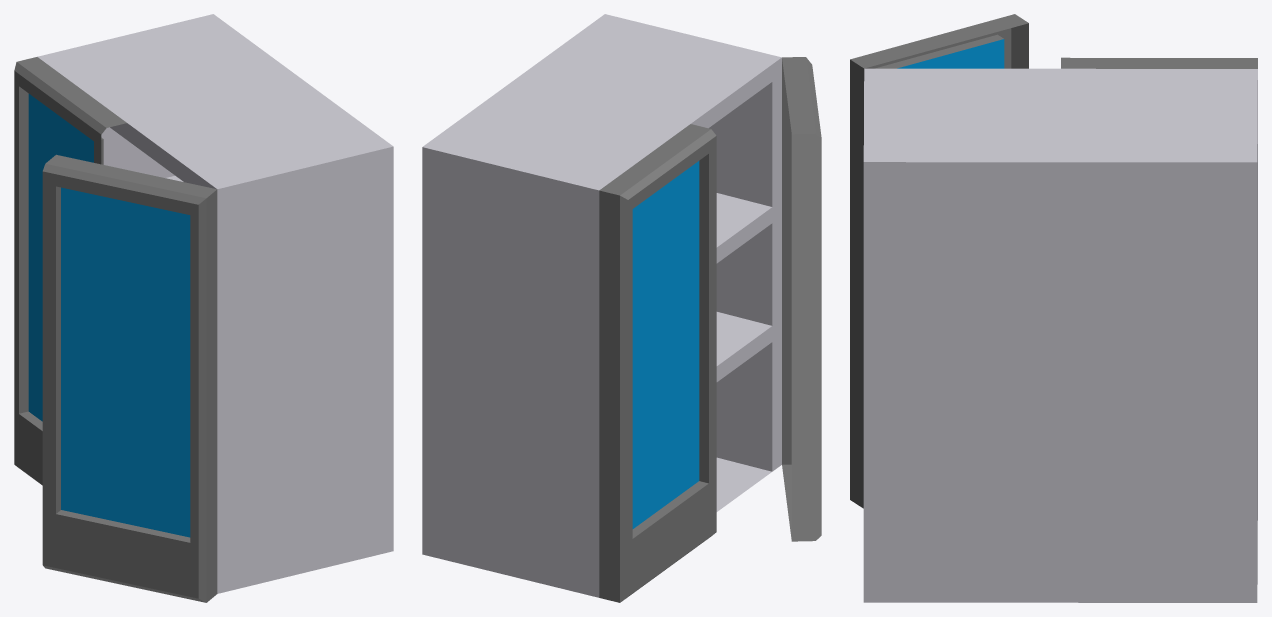
File: open_closet.fbx
The picture shows the model from 3 angles, left to right: view 1: azimuth 30°, elevation 25°; view 2: azimuth 150°, elevation 25°; view 3: azimuth 270°, elevation 25°; orthographic projection. The views are drawn at different scales.
Visible parts, largest first — view 1: open_closet; view 2: open_closet; view 3: open_closet.
Boxes of the visible parts, x1,y1,x2,y2 form: open_closet: (14,14,393,602); open_closet: (422,14,821,602); open_closet: (850,14,1257,602).
Bounding box in the file's own units: 245 × 334 × 280.
